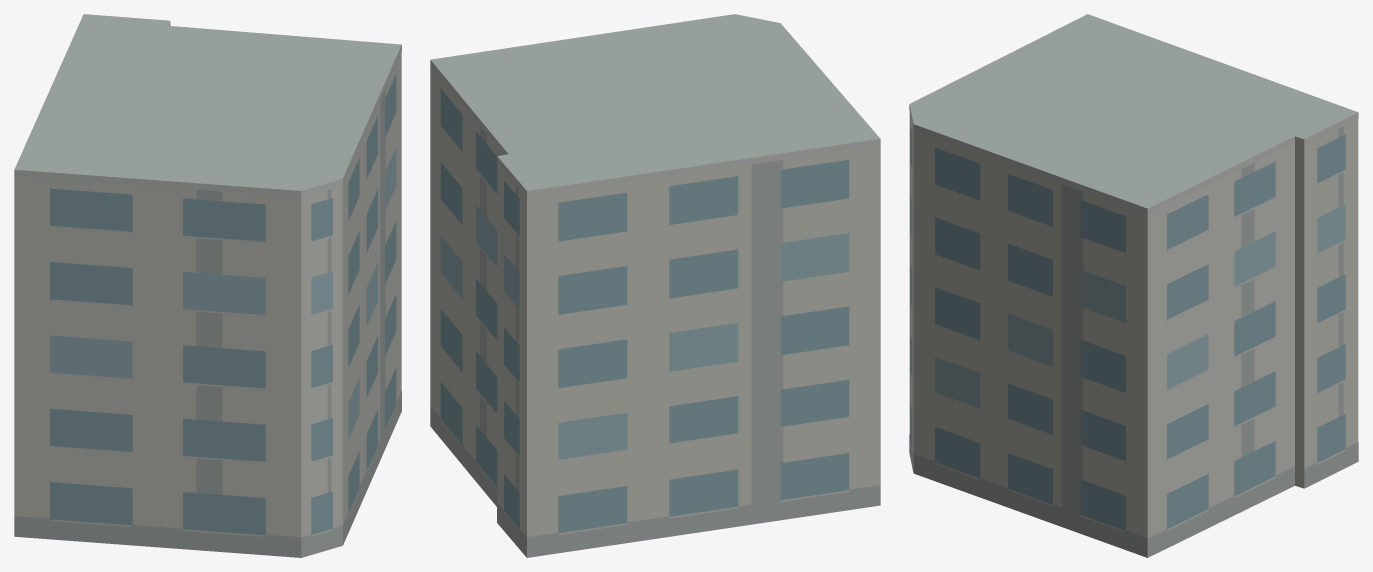
Rendered from survey-upis-32569255.glb.
3 renders of one model, left to right at view 1: azimuth 30°, elevation 25°; view 2: azimuth 150°, elevation 25°; view 3: azimuth 270°, elevation 25°, orthographic. The views are drawn at different scales.
Parts seen in each view (by area): view 1: survey-upis-32569255.tmp; view 2: survey-upis-32569255.tmp; view 3: survey-upis-32569255.tmp.
Part boxes in pixels (x1,y1,x2,y2): survey-upis-32569255.tmp: [14, 14, 401, 557]; survey-upis-32569255.tmp: [430, 14, 880, 557]; survey-upis-32569255.tmp: [909, 14, 1358, 557].
Size of the model in its own units: 15.95 by 13.35 by 15.55.
